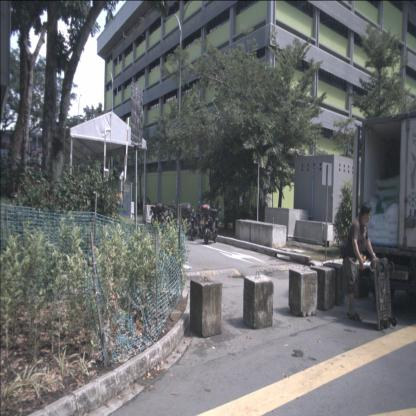barrier: (190, 275, 223, 338), (243, 271, 274, 329), (289, 266, 318, 317), (310, 262, 336, 312), (322, 258, 346, 306)
